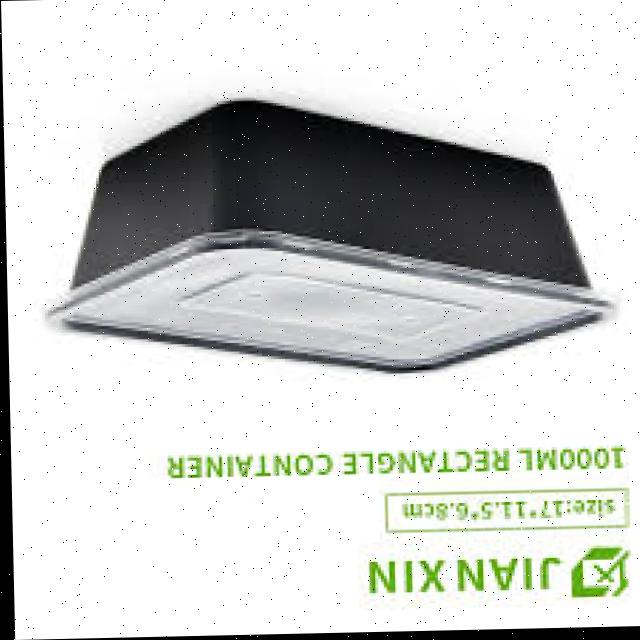disposable: (14, 83, 614, 411)
